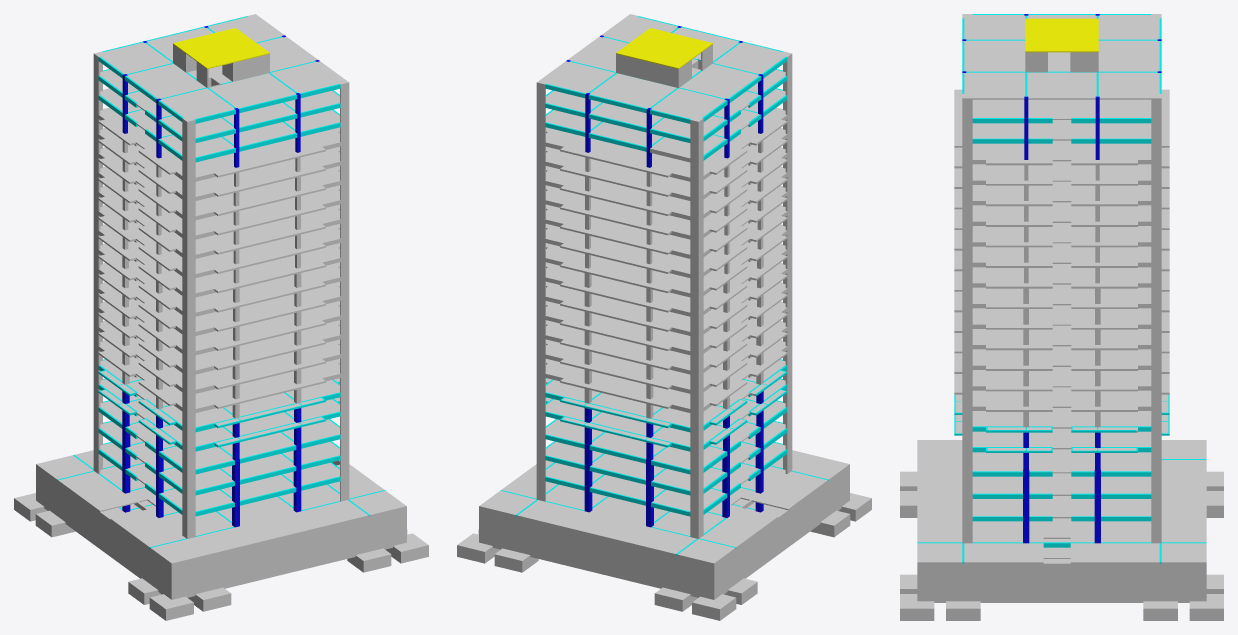
The model's file is PhuDien.gltf.
3 renders of one model, left to right at view 1: azimuth 30°, elevation 25°; view 2: azimuth 150°, elevation 25°; view 3: azimuth 270°, elevation 25°, orthographic. The views are drawn at different scales.
Visible parts, largest first — view 1: 1XzNEAMpXB3QXs$77mpiWW, 2_8LX0TZT6pQfbRVFyrpmo, 2_8LX0TZT6pQfbRVFyrpd3, 2_8LX0TZT6pQfbRVFyrpyK, 2_8LX0TZT6pQfbRVFyrpdC, 1wcOksy7bDh8SRsYb0nB3l, 0DxQtsT8f7Xv2GuvT1byWn, 0DxQtsT8f7Xv2GuvT1byXH, 0DxQtsT8f7Xv2GuvT1byWv, 0DxQtsT8f7Xv2GuvT1byWf, 0DxQtsT8f7Xv2GuvT1byXf, 0DxQtsT8f7Xv2GuvT1byX1 (+71 smaller); view 2: 1XzNEAMpXB3QXs$77mpiWW, 2_8LX0TZT6pQfbRVFyrpwb, 2_8LX0TZT6pQfbRVFyrpdD, 2_8LX0TZT6pQfbRVFyrpyK, 2_8LX0TZT6pQfbRVFyrpdC, 1wcOksy7bDh8SRsYb0nB3l, 0DxQtsT8f7Xv2GuvT1byXX, 0DxQtsT8f7Xv2GuvT1byXH, 0DxQtsT8f7Xv2GuvT1byXP, 0DxQtsT8f7Xv2GuvT1byXf, 0DxQtsT8f7Xv2GuvT1byWf, 0Ijjg5wprCDBfRgmss14_b (+72 smaller); view 3: 1XzNEAMpXB3QXs$77mpiWW, 2_8LX0TZT6pQfbRVFyrpuK, 2_8LX0TZT6pQfbRVFyrpdF, 1wcOksy7bDh8SRsYb0nB3l, 0DxQtsT8f7Xv2GuvT1byXX, 0DxQtsT8f7Xv2GuvT1byWn, 0DxQtsT8f7Xv2GuvT1byX1, 0DxQtsT8f7Xv2GuvT1byXP, 0DxQtsT8f7Xv2GuvT1byWv, 0DxQtsT8f7Xv2GuvT1byXf, 0DxQtsT8f7Xv2GuvT1byWf, 0DxQtsT8f7Xv2GuvT1byOu (+79 smaller).
Part boxes in pixels (x1,y1,x2,y2): 1XzNEAMpXB3QXs$77mpiWW: [36, 450, 406, 564]; 2_8LX0TZT6pQfbRVFyrpmo: [170, 507, 406, 582]; 2_8LX0TZT6pQfbRVFyrpd3: [170, 525, 406, 599]; 2_8LX0TZT6pQfbRVFyrpyK: [36, 465, 169, 580]; 2_8LX0TZT6pQfbRVFyrpdC: [36, 483, 169, 598]; 1wcOksy7bDh8SRsYb0nB3l: [173, 28, 269, 68]; 0DxQtsT8f7Xv2GuvT1byWn: [209, 73, 295, 108]; 0DxQtsT8f7Xv2GuvT1byXH: [127, 64, 205, 98]; 0DxQtsT8f7Xv2GuvT1byWv: [271, 61, 345, 93]; 0DxQtsT8f7Xv2GuvT1byWf: [160, 88, 234, 120]; 0DxQtsT8f7Xv2GuvT1byXf: [96, 42, 171, 74]; 0DxQtsT8f7Xv2GuvT1byX1: [257, 36, 317, 71]; 1XzNEAMpXB3QXs$77mpiWW: [479, 450, 849, 564]; 2_8LX0TZT6pQfbRVFyrpwb: [479, 507, 710, 581]; 2_8LX0TZT6pQfbRVFyrpdD: [479, 525, 710, 598]; 2_8LX0TZT6pQfbRVFyrpyK: [710, 467, 847, 582]; 2_8LX0TZT6pQfbRVFyrpdC: [710, 485, 847, 599]; 1wcOksy7bDh8SRsYb0nB3l: [616, 28, 712, 68]; 0DxQtsT8f7Xv2GuvT1byXX: [590, 73, 676, 108]; 0DxQtsT8f7Xv2GuvT1byXH: [680, 64, 758, 98]; 0DxQtsT8f7Xv2GuvT1byXP: [540, 61, 614, 93]; 0DxQtsT8f7Xv2GuvT1byXf: [651, 88, 725, 120]; 0DxQtsT8f7Xv2GuvT1byWf: [714, 42, 789, 74]; 0Ijjg5wprCDBfRgmss14_b: [616, 54, 677, 87]; 1XzNEAMpXB3QXs$77mpiWW: [917, 440, 1206, 563]; 2_8LX0TZT6pQfbRVFyrpuK: [921, 561, 1202, 582]; 2_8LX0TZT6pQfbRVFyrpdF: [921, 582, 1202, 601]; 1wcOksy7bDh8SRsYb0nB3l: [1025, 18, 1098, 52]; 0DxQtsT8f7Xv2GuvT1byXX: [1098, 40, 1159, 71]; 0DxQtsT8f7Xv2GuvT1byWn: [964, 40, 1025, 71]; 0DxQtsT8f7Xv2GuvT1byX1: [1027, 72, 1096, 99]; 0DxQtsT8f7Xv2GuvT1byXP: [1098, 72, 1159, 99]; 0DxQtsT8f7Xv2GuvT1byWv: [964, 72, 1025, 99]; 0DxQtsT8f7Xv2GuvT1byXf: [1098, 15, 1159, 39]; 0DxQtsT8f7Xv2GuvT1byWf: [964, 15, 1025, 39]; 0DxQtsT8f7Xv2GuvT1byOu: [1029, 449, 1094, 473].
Size of the model in its own units: 47.1 by 85.05 by 47.1.
